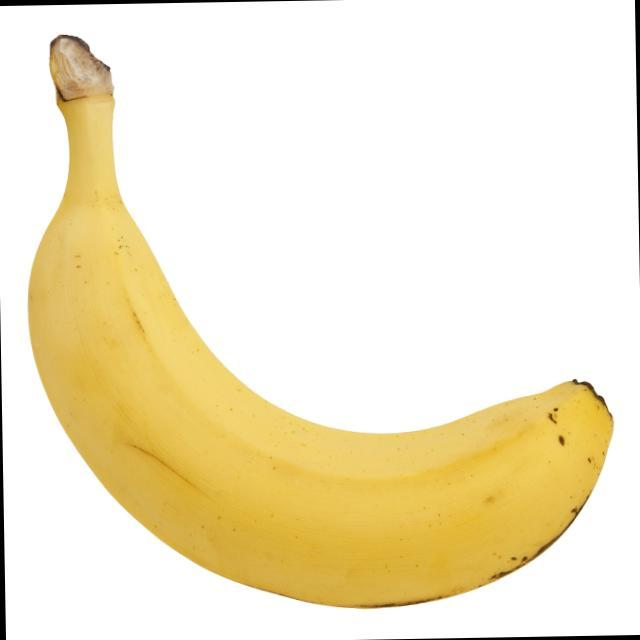Banana: (9, 8, 632, 620)
